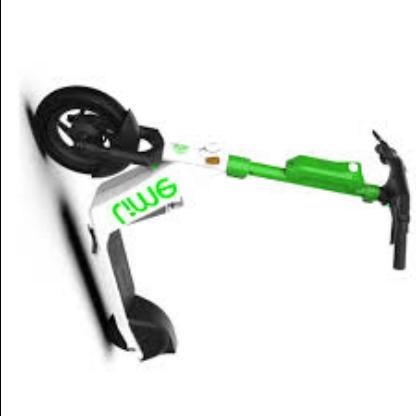bike: (26, 84, 415, 364)
